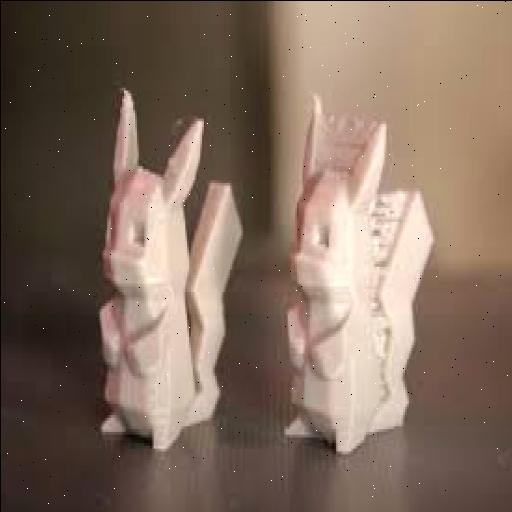stringing: (370, 187, 414, 400), (318, 104, 361, 164)
